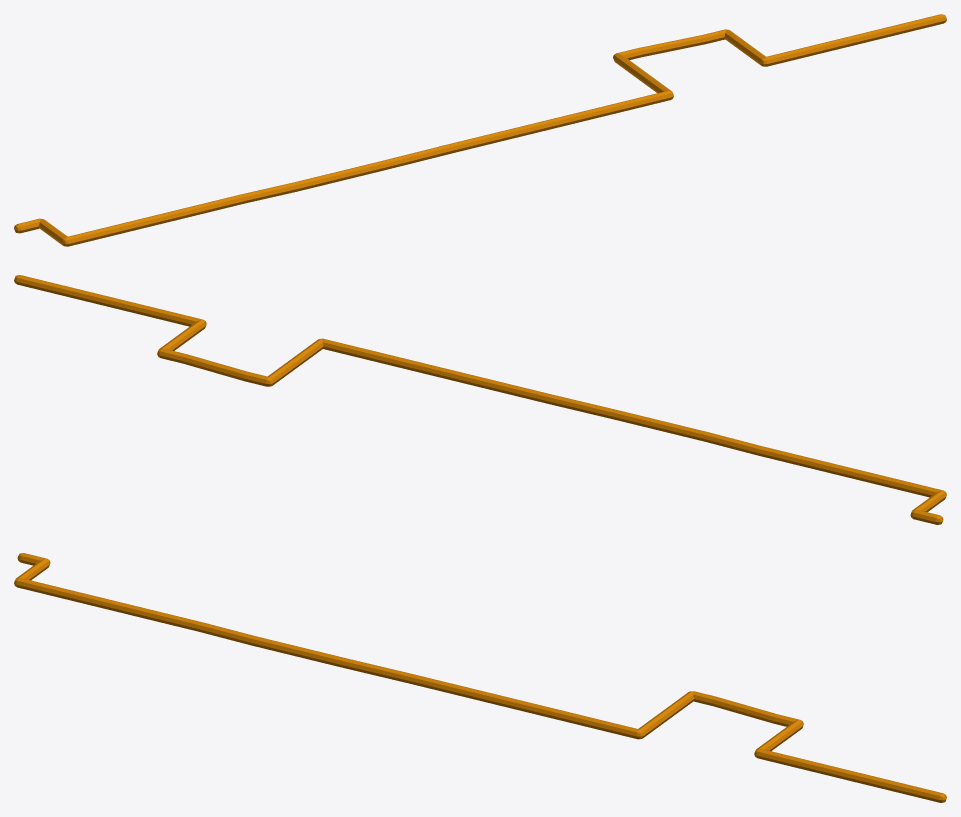
3 renders of one model, top to bottom at view 1: azimuth 30°, elevation 25°; view 2: azimuth 150°, elevation 25°; view 3: azimuth 330°, elevation 25°, orthographic. The views are drawn at different scales.
Bounding box in the file's own units: 2069 × 20 × 222.
